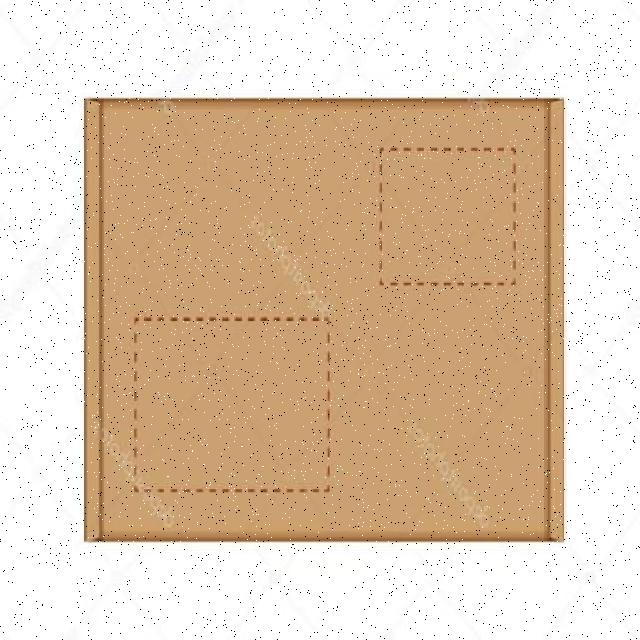normal: (76, 94, 570, 548)
